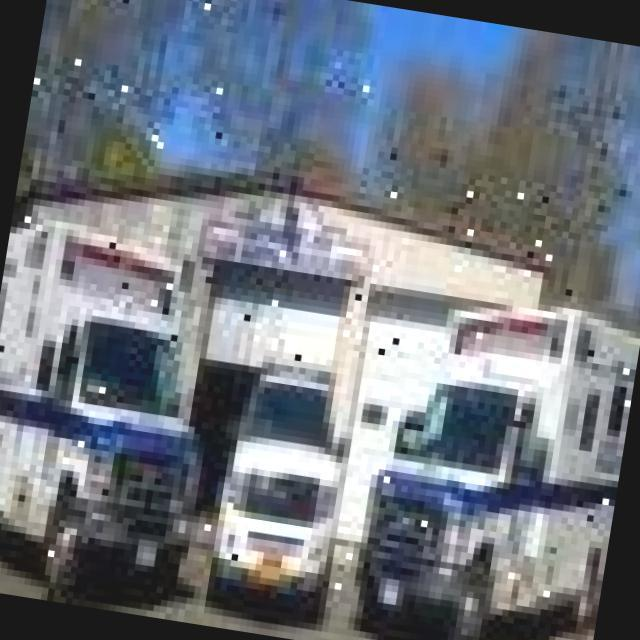emergency-vehicle: (0, 220, 638, 640)
